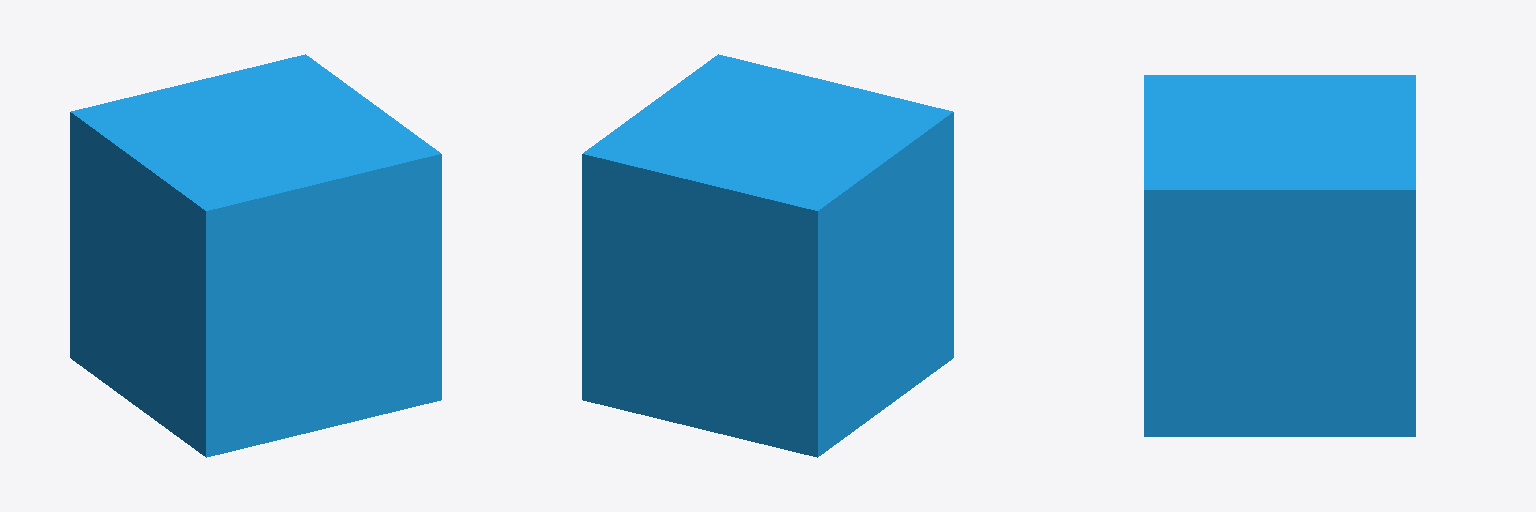
3 views of the same model, side by side, from view 1: azimuth 30°, elevation 25°; view 2: azimuth 150°, elevation 25°; view 3: azimuth 270°, elevation 25° (orthographic).
Parts seen in each view (by area): view 1: Cube; view 2: Cube; view 3: Cube.
Boxes of the visible parts, <box> form: Cube: <box>70,54,441,457</box>; Cube: <box>582,54,953,457</box>; Cube: <box>1144,75,1415,436</box>.
Size of the model in its own units: 113 by 113 by 113.
1 materials, 1 textured.